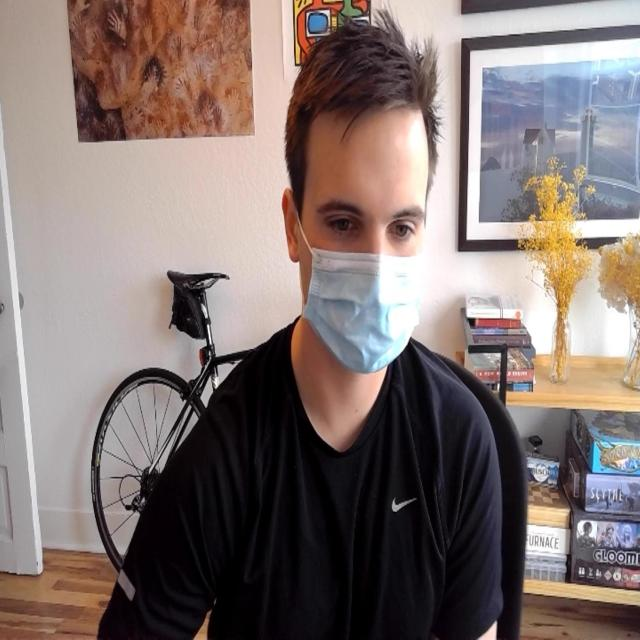Mask: (293, 104, 429, 376)
